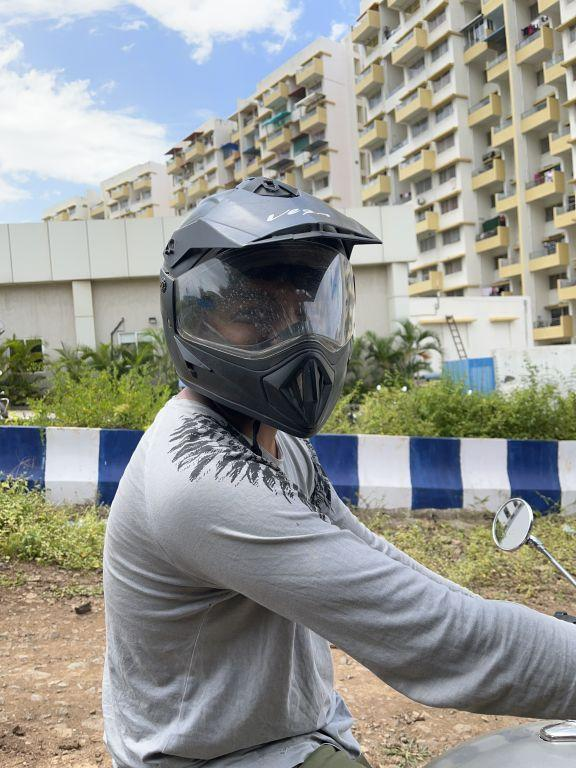helmet: (149, 159, 385, 462)
